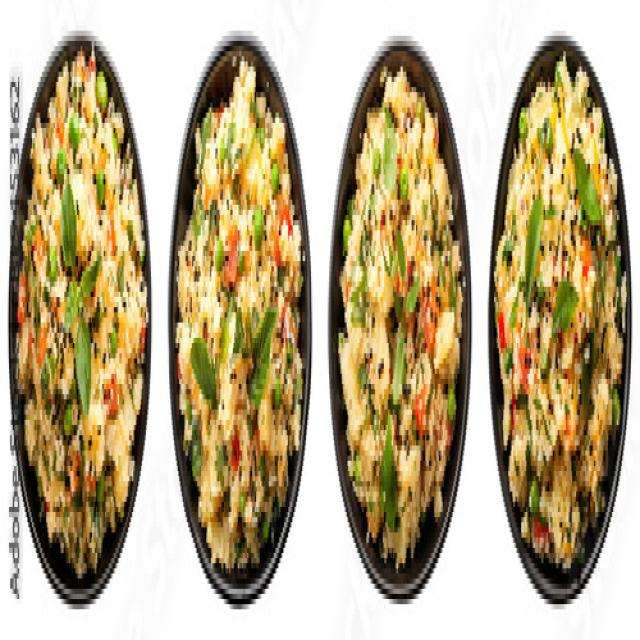UPMA: (170, 41, 308, 599), (12, 41, 148, 599), (330, 46, 468, 594), (494, 51, 627, 594)
